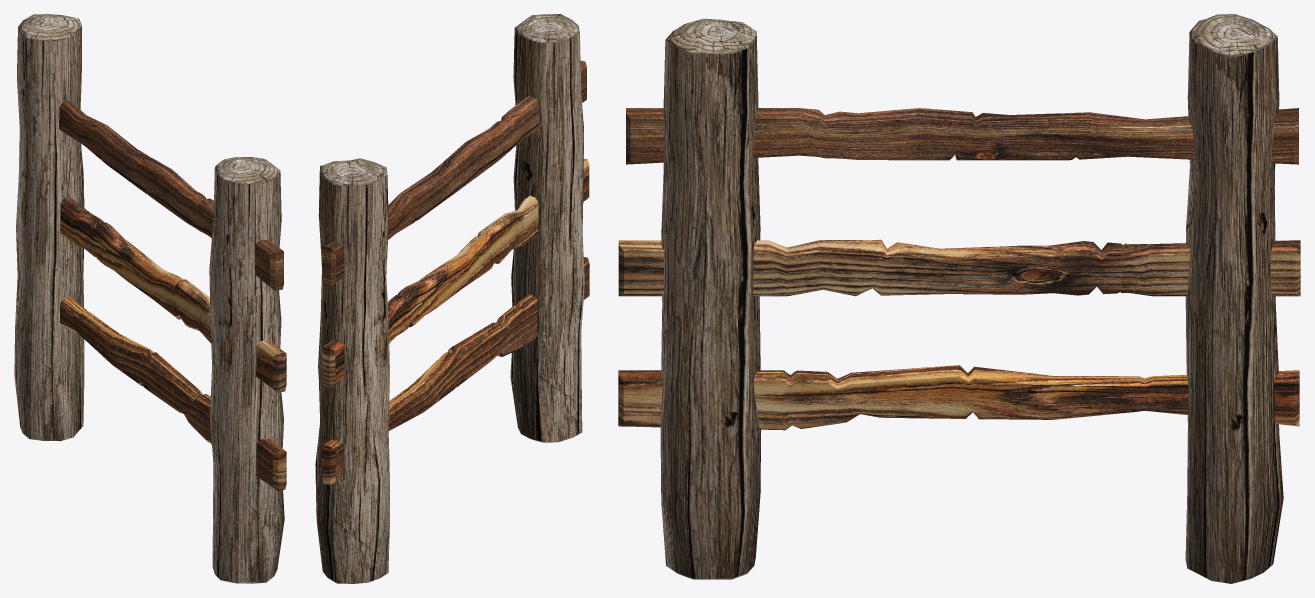
Rendered from SM_FarmFence.fbx.
The picture shows the model from 3 angles, left to right: view 1: azimuth 30°, elevation 25°; view 2: azimuth 150°, elevation 25°; view 3: azimuth 270°, elevation 25°; orthographic projection. The views are drawn at different scales.
Parts seen in each view (by area): view 1: SM_FencePost_01, SM_FencePost_02, FenceSpoke_Middle, FenceSpoke_Upper, FenceSpoke_Lower; view 2: SM_FencePost_02, SM_FencePost_01, FenceSpoke_Middle, FenceSpoke_Lower, FenceSpoke_Upper; view 3: SM_FencePost_01, SM_FencePost_02, FenceSpoke_Middle, FenceSpoke_Lower, FenceSpoke_Upper.
Boxes of the visible parts, left/top/right/bottom form: SM_FencePost_01: left=209, top=157, right=284, bottom=583; SM_FencePost_02: left=14, top=14, right=84, bottom=441; FenceSpoke_Middle: left=60, top=196, right=286, bottom=392; FenceSpoke_Upper: left=59, top=100, right=283, bottom=291; FenceSpoke_Lower: left=59, top=296, right=286, bottom=491; SM_FencePost_02: left=315, top=158, right=389, bottom=583; SM_FencePost_01: left=510, top=14, right=584, bottom=442; FenceSpoke_Middle: left=321, top=158, right=589, bottom=387; FenceSpoke_Lower: left=322, top=257, right=589, bottom=485; FenceSpoke_Upper: left=322, top=60, right=586, bottom=287; SM_FencePost_01: left=660, top=18, right=760, bottom=579; SM_FencePost_02: left=1185, top=14, right=1283, bottom=583; FenceSpoke_Middle: left=618, top=239, right=1300, bottom=296; FenceSpoke_Lower: left=618, top=365, right=1299, bottom=430; FenceSpoke_Upper: left=626, top=108, right=1298, bottom=164.
Bounding box in the file's own units: 26.35 × 156 × 179.
